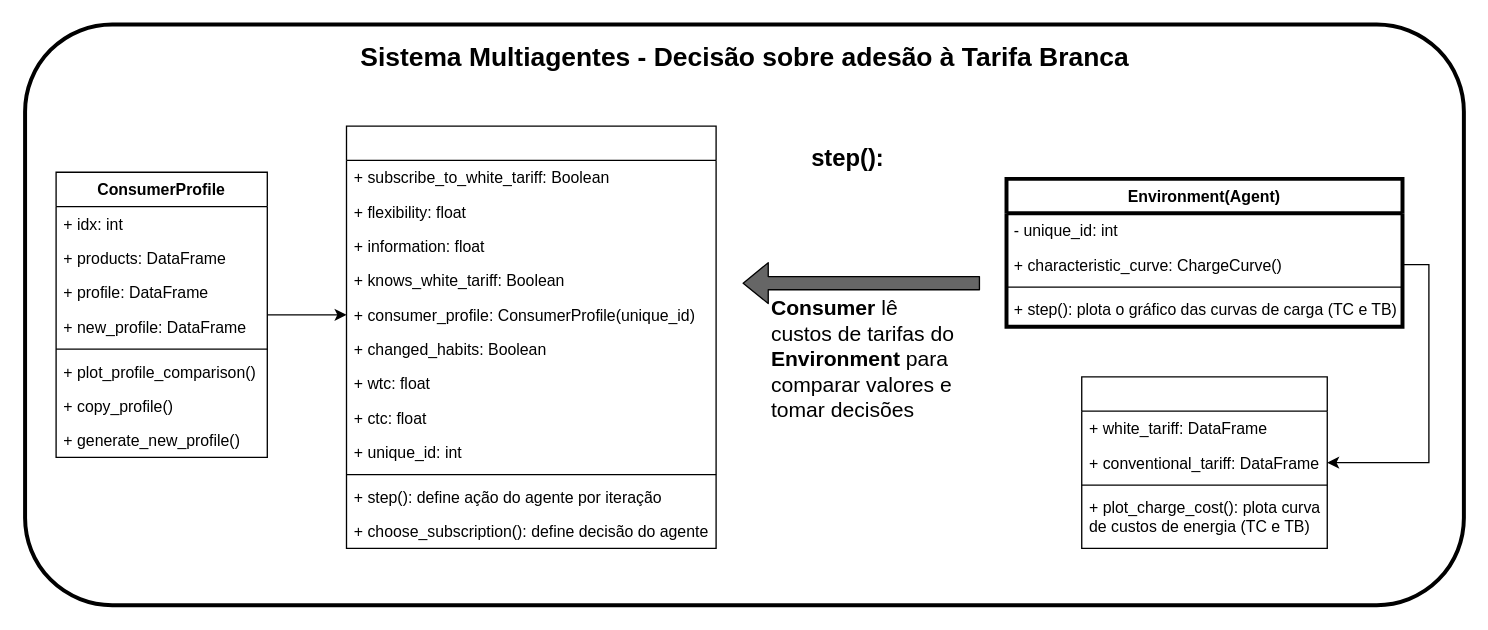
This 1488x630 diagram has some shape labels left out. Here are the shapes that lost their labels. From the top down, the box of each, then its label:
(345, 125, 716, 548): Consumer(Agent)
(1080, 376, 1327, 548): ChargeCurve
